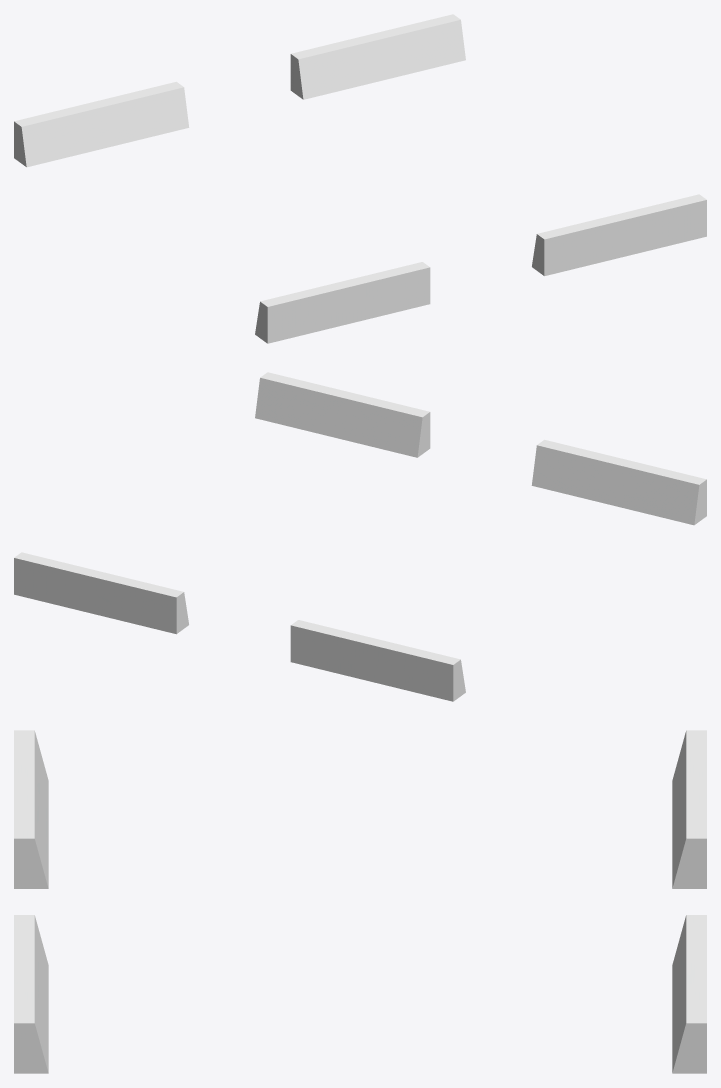
The model's file is road-driveway-double-barrier.glb.
3 renders of one model, top to bottom at view 1: azimuth 30°, elevation 25°; view 2: azimuth 150°, elevation 25°; view 3: azimuth 270°, elevation 25°, orthographic. The views are drawn at different scales.
Visible parts, largest first — view 1: road-driveway-double-barrier; view 2: road-driveway-double-barrier; view 3: road-driveway-double-barrier.
Boxes of the visible parts, x1,y1,x2,y2 form: road-driveway-double-barrier: [14, 14, 706, 343]; road-driveway-double-barrier: [14, 372, 706, 701]; road-driveway-double-barrier: [14, 730, 706, 1073].
Bounding box in the file's own units: 1 × 0.08 × 1.
1 material, 1 textured.
